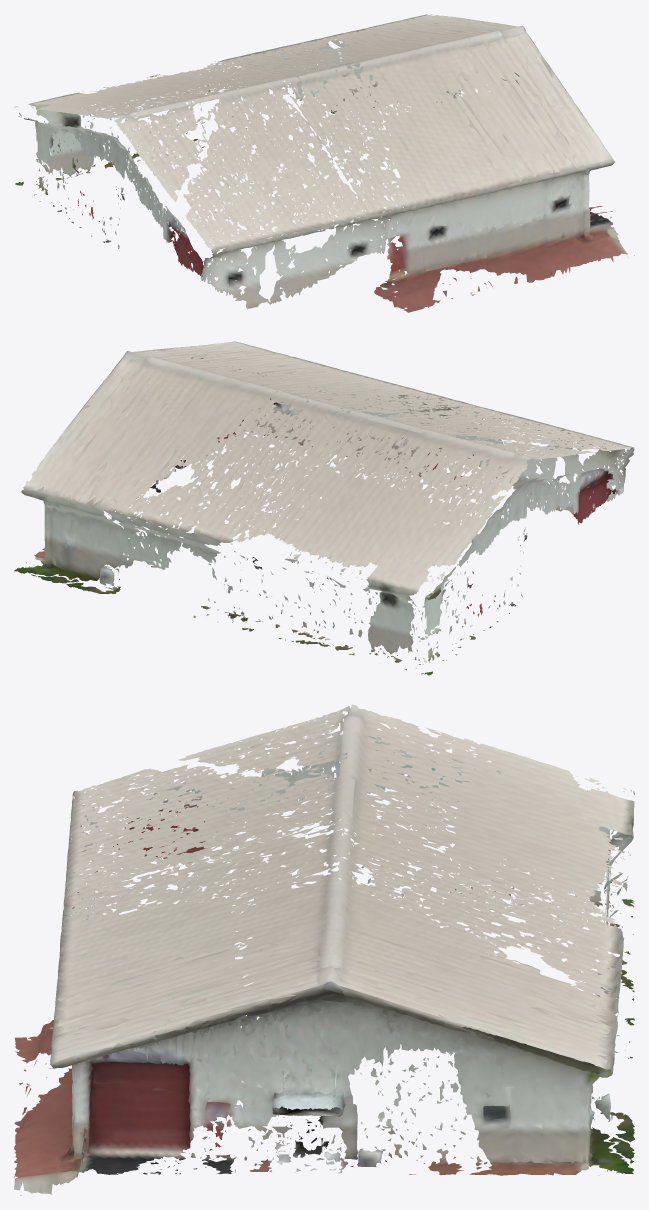
The model's file is bldg_12_market_gable.glb.
3 views of the same model, one above another, from view 1: azimuth 30°, elevation 25°; view 2: azimuth 150°, elevation 25°; view 3: azimuth 270°, elevation 25° (orthographic). The views are drawn at different scales.
Parts seen in each view (by area): view 1: MarketGable; view 2: MarketGable; view 3: MarketGable.
Boxes of the visible parts, bbox=[...] form: MarketGable: bbox=[14, 14, 634, 312]; MarketGable: bbox=[14, 341, 634, 675]; MarketGable: bbox=[14, 704, 634, 1195].
Size of the model in its own units: 23.71 by 8.41 by 22.2.
Materials: 1 (1 with a texture image).
